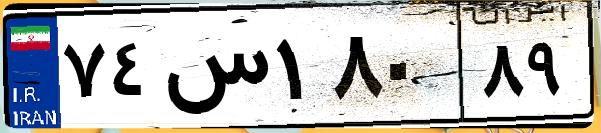0: (385, 28, 445, 110)
1: (270, 28, 330, 110)
4: (110, 28, 158, 98)
7: (57, 26, 110, 100)
8: (330, 28, 385, 110), (475, 38, 525, 113)
9: (525, 38, 570, 115)
س: (158, 20, 270, 120)
